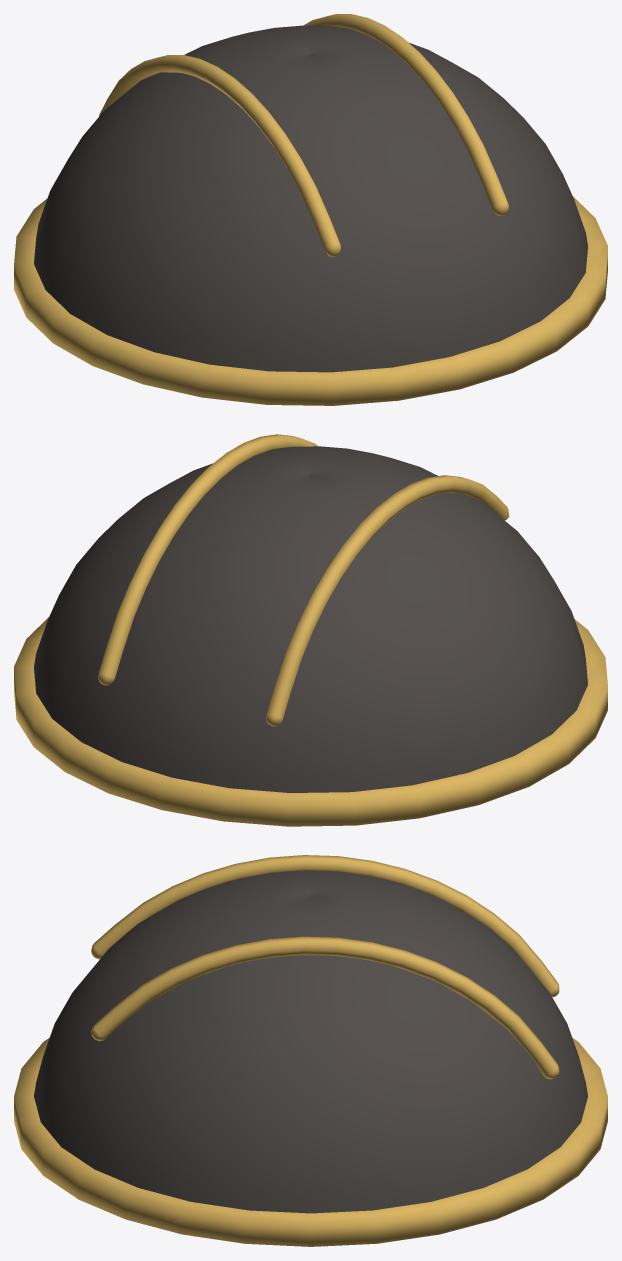
The model's file is coin_headpiece.glb.
The picture shows the model from 3 angles, top to bottom: view 1: azimuth 30°, elevation 25°; view 2: azimuth 150°, elevation 25°; view 3: azimuth 270°, elevation 25°; orthographic projection.
Visible parts, largest first — view 1: coin_headpiece_Head; view 2: coin_headpiece_Head; view 3: coin_headpiece_Head.
Boxes of the visible parts, x1,y1,x2,y2 form: coin_headpiece_Head: [14, 14, 607, 405]; coin_headpiece_Head: [14, 434, 607, 826]; coin_headpiece_Head: [14, 855, 607, 1246].
Size of the model in its own units: 0.75 by 0.315 by 0.75.
